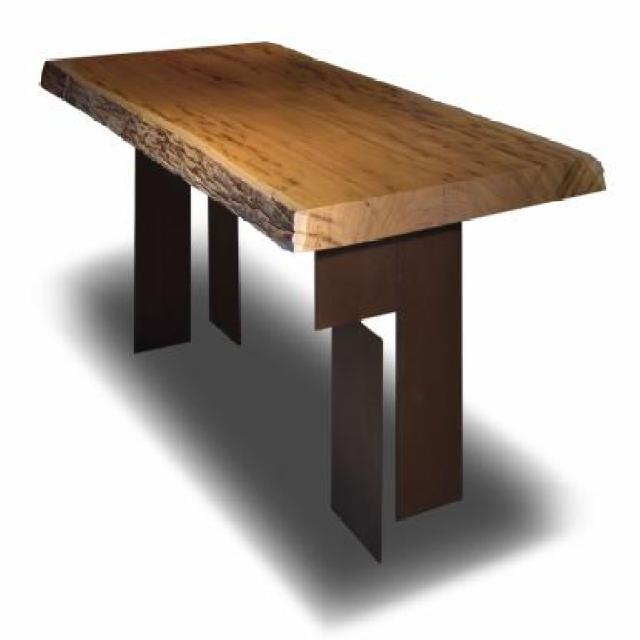table: (39, 38, 607, 570)
